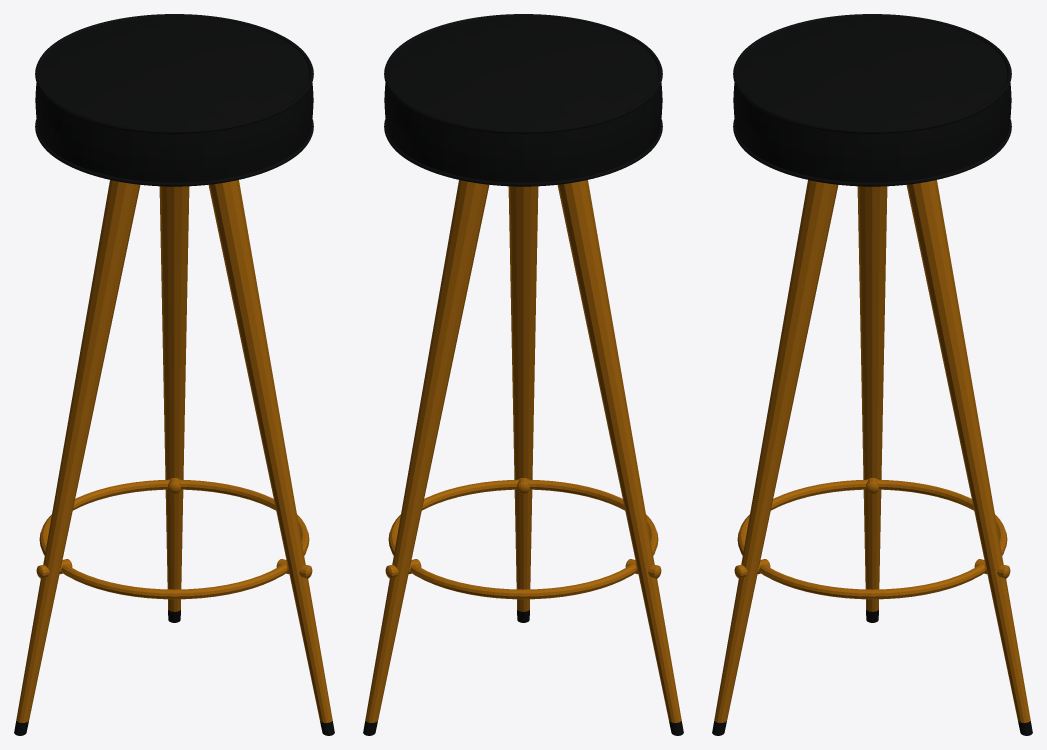
File: chair.obj
3 views of the same model, side by side, from view 1: azimuth 30°, elevation 25°; view 2: azimuth 150°, elevation 25°; view 3: azimuth 270°, elevation 25° (orthographic).
Parts seen in each view (by area): view 1: 01a9_banqu; view 2: 01a9_banqu; view 3: 01a9_banqu.
Part boxes in pixels (x1=…): 01a9_banqu: x1=14, y1=14, x2=334, y2=735; 01a9_banqu: x1=363, y1=14, x2=683, y2=735; 01a9_banqu: x1=712, y1=14, x2=1032, y2=735.
Bounding box in the file's own units: 0.9488 × 2.04 × 0.9406.
